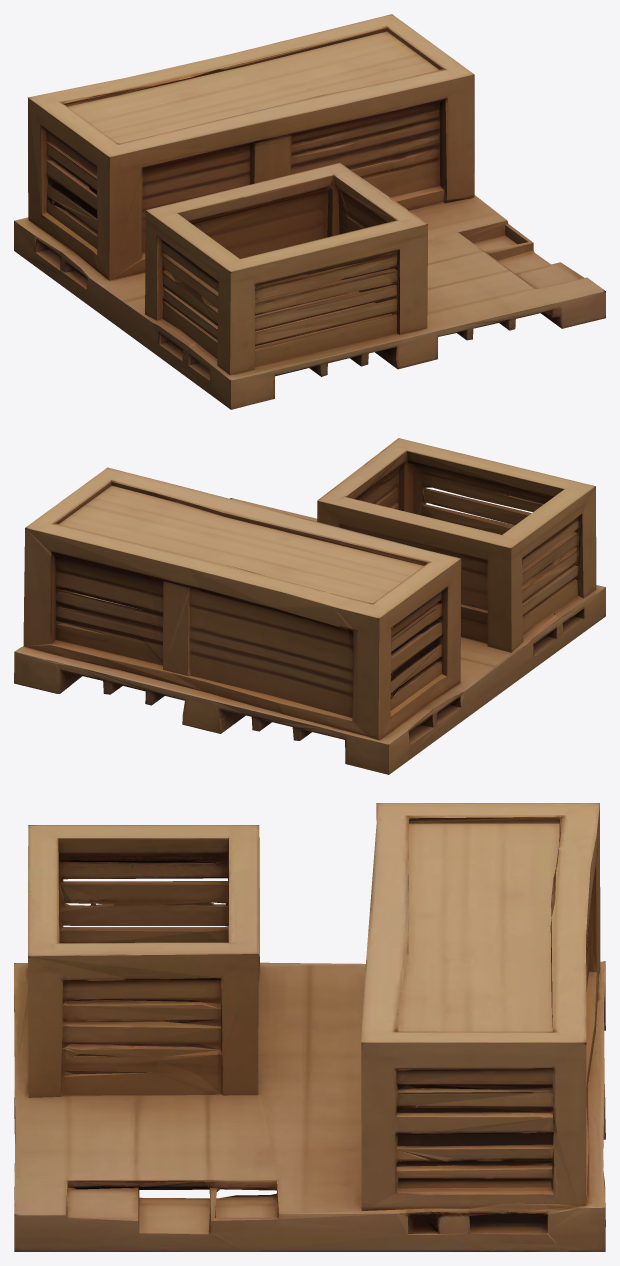
File: crates-on-pallet.glb
3 renders of one model, top to bottom at view 1: azimuth 30°, elevation 25°; view 2: azimuth 150°, elevation 25°; view 3: azimuth 270°, elevation 25°, orthographic. The views are drawn at different scales.
Visible parts, largest first — view 1: geometry_0; view 2: geometry_0; view 3: geometry_0.
Part boxes in pixels (bbox=[...]): geometry_0: bbox=[14, 14, 605, 409]; geometry_0: bbox=[14, 438, 605, 774]; geometry_0: bbox=[14, 803, 605, 1251].
Size of the model in its own units: 0.9979 by 0.3877 by 0.9995.
Materials: 1 (1 with a texture image).
